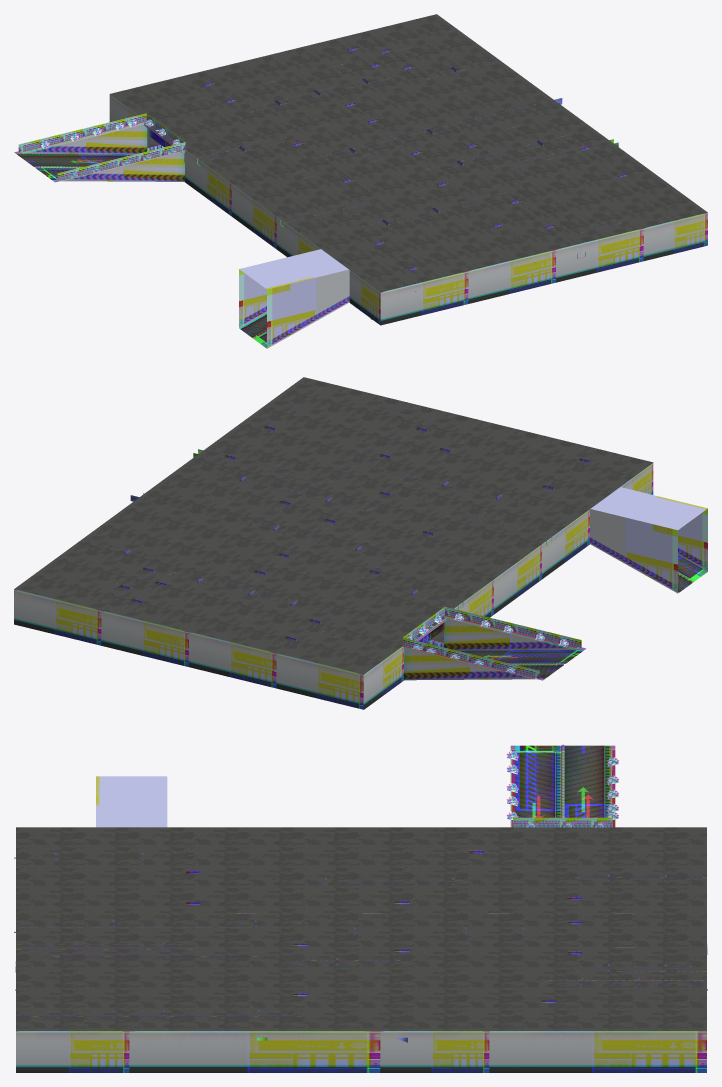
Rendered from map ham de xe.FBX.
The picture shows the model from 3 angles, top to bottom: view 1: azimuth 30°, elevation 25°; view 2: azimuth 150°, elevation 25°; view 3: azimuth 270°, elevation 25°; orthographic projection. The views are drawn at different scales.
Visible parts, largest first — view 1: Plane013, Plane001, Object133, Object029; view 2: Plane013, Plane001, Object029, Object133; view 3: Plane013, Plane001, Object134, Plane012.
Part boxes in pixels (<box>): Plane013: <box>110,14,707,292</box>; Plane001: <box>14,94,707,348</box>; Object133: <box>57,142,185,180</box>; Object029: <box>18,113,146,151</box>; Plane013: <box>14,377,653,674</box>; Plane001: <box>14,463,707,709</box>; Object029: <box>403,637,539,678</box>; Object133: <box>445,607,581,647</box>; Plane013: <box>16,827,706,1030</box>; Plane001: <box>16,744,706,1072</box>; Object134: <box>513,817,612,827</box>; Plane012: <box>16,922,305,1016</box>.
Bounding box in the file's own units: 15869 × 2174 × 16031.
